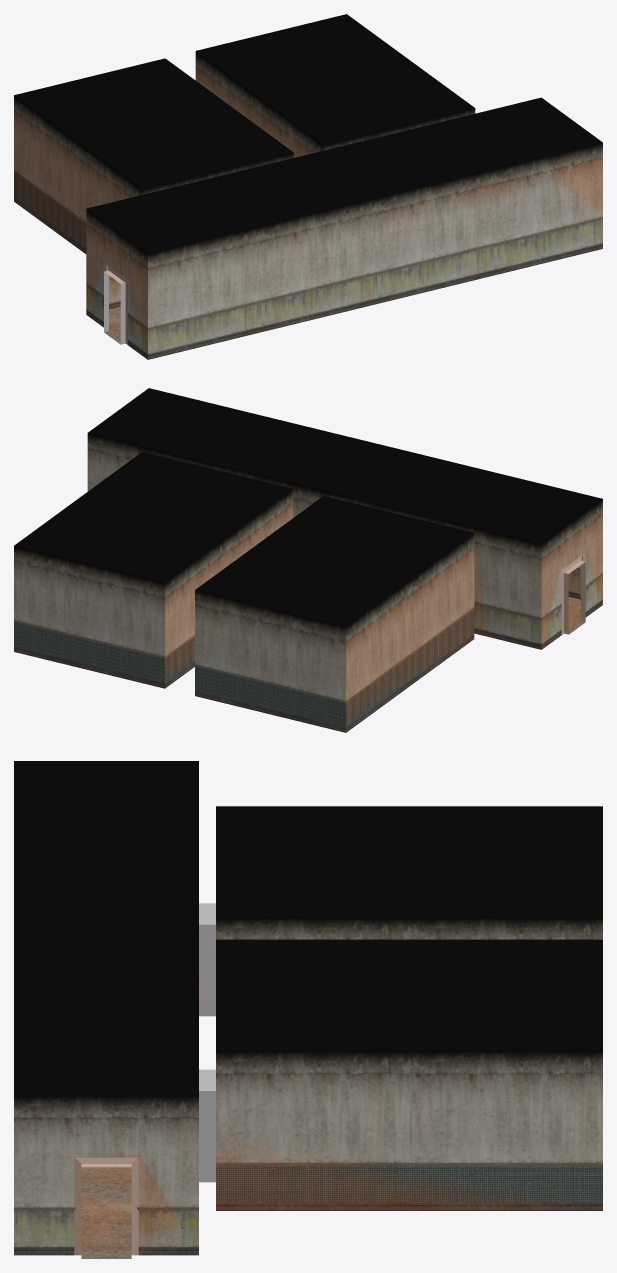
Rendered from Bathroom_4x3.FBX.
3 views of the same model, one above another, from view 1: azimuth 30°, elevation 25°; view 2: azimuth 150°, elevation 25°; view 3: azimuth 270°, elevation 25° (orthographic). The views are drawn at different scales.
Parts seen in each view (by area): view 1: Bathroom_4x3, Bathroom_Men, Bathroom_Women, Bathroom_4x3_Colllision; view 2: Bathroom_Men, Bathroom_4x3, Bathroom_Women, Bathroom_4x3_Colllision; view 3: Bathroom_Women, Bathroom_4x3, Bathroom_Men, Bathroom_4x3_Colllision.
Boxes of the visible parts, box(x1,y1,x2,y2) form: Bathroom_4x3: box(86, 97, 602, 359); Bathroom_Men: box(14, 58, 293, 253); Bathroom_Women: box(195, 14, 475, 157); Bathroom_4x3_Colllision: box(14, 67, 602, 357); Bathroom_Men: box(195, 496, 474, 732); Bathroom_4x3: box(87, 388, 602, 649); Bathroom_Women: box(14, 452, 293, 688); Bathroom_4x3_Colllision: box(165, 505, 602, 719); Bathroom_Women: box(216, 939, 602, 1210); Bathroom_4x3: box(14, 761, 215, 1258); Bathroom_Men: box(216, 806, 602, 939); Bathroom_4x3_Colllision: box(74, 993, 579, 1254).
Bounding box in the file's own units: 1890 × 414 × 1378.
